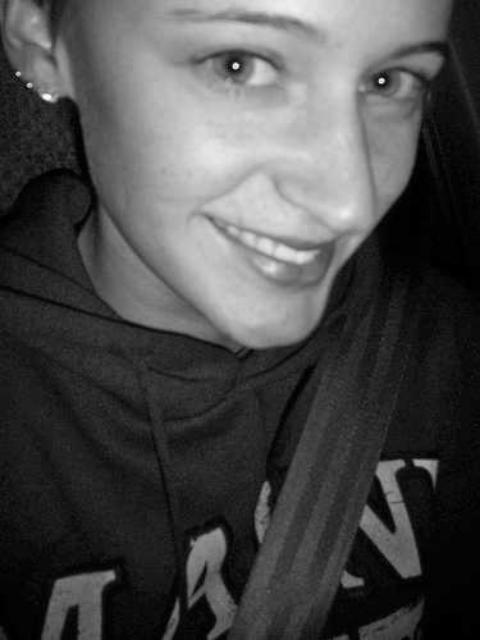SafeDriving: (166, 22, 309, 104), (341, 42, 445, 118)
Seatbelt: (220, 272, 427, 640)
